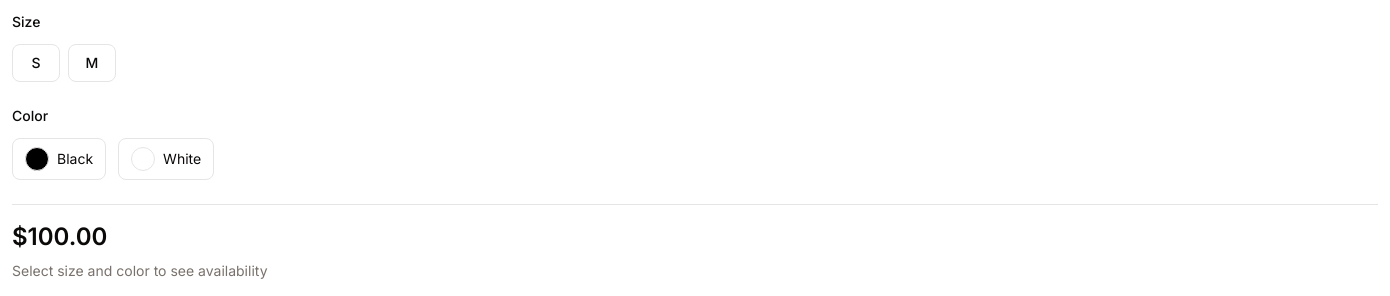
Test case: VariantSelector › updates selected size when size button clicked
Step 1. Click the radio button labelled "S" → [36, 63], box [12, 44, 60, 82]
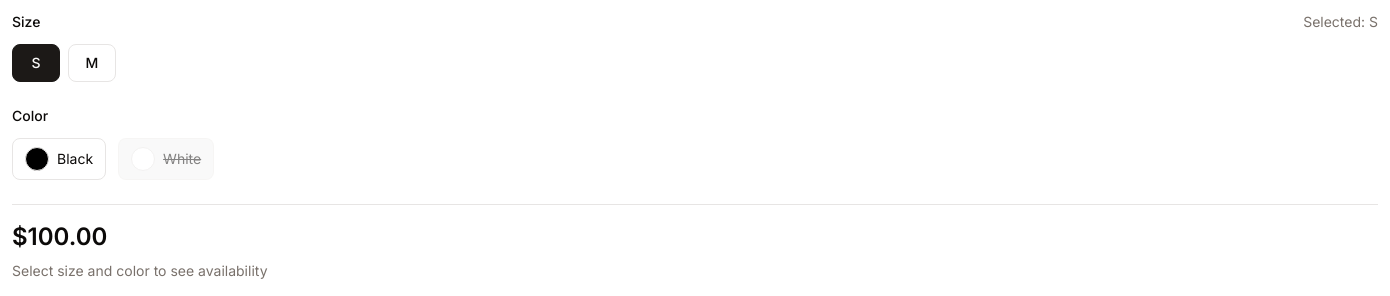
Now the text "Selected: S" is shown, box [1303, 12, 1378, 32]
